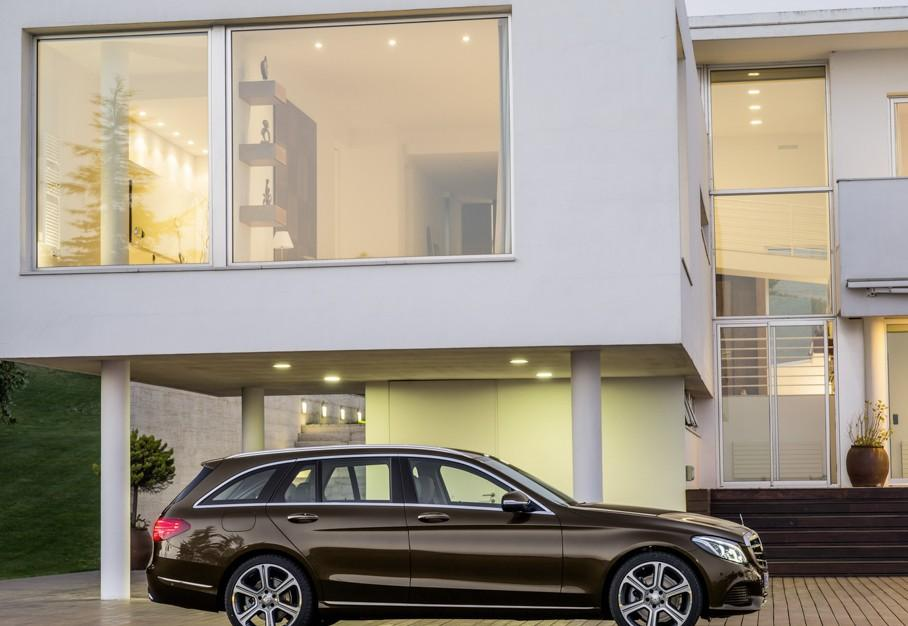Wagon: (146, 443, 768, 626)
